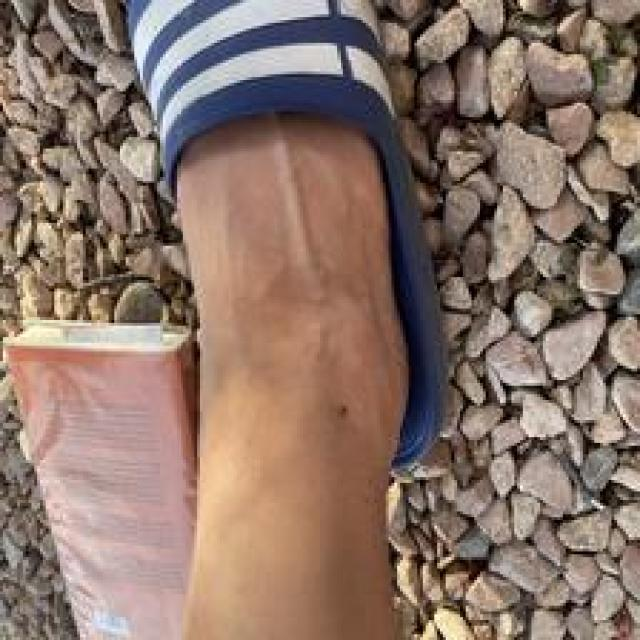Aedes albopictus: (117, 0, 449, 477)
